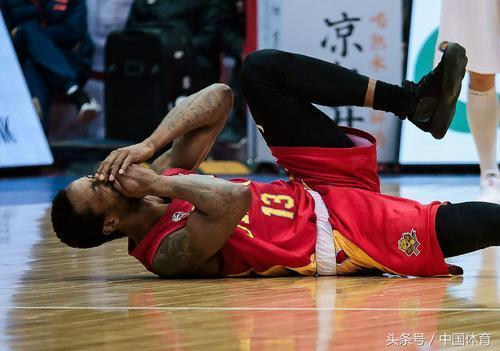Fall-Detected: (37, 32, 500, 283)
